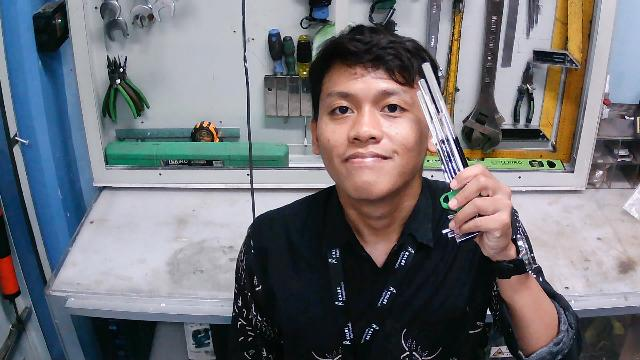kunci_l: (413, 59, 493, 247)
